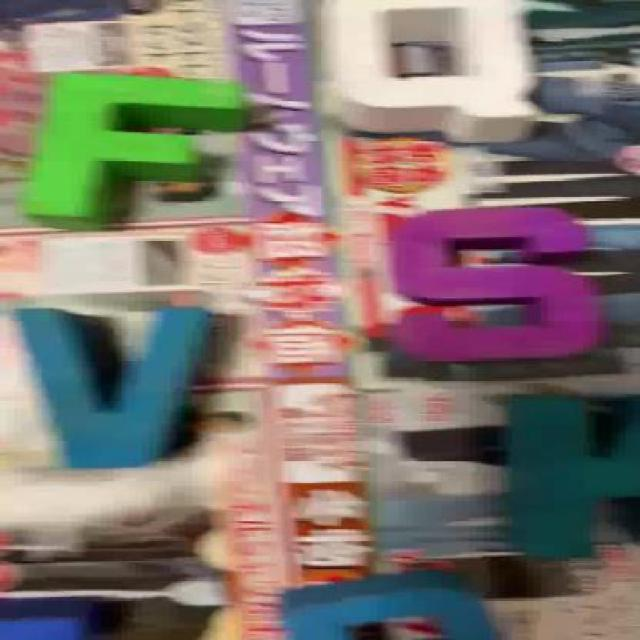F: (37, 76, 240, 230)
Q: (327, 0, 536, 145)
S: (405, 208, 592, 363)
V: (15, 306, 217, 469)
